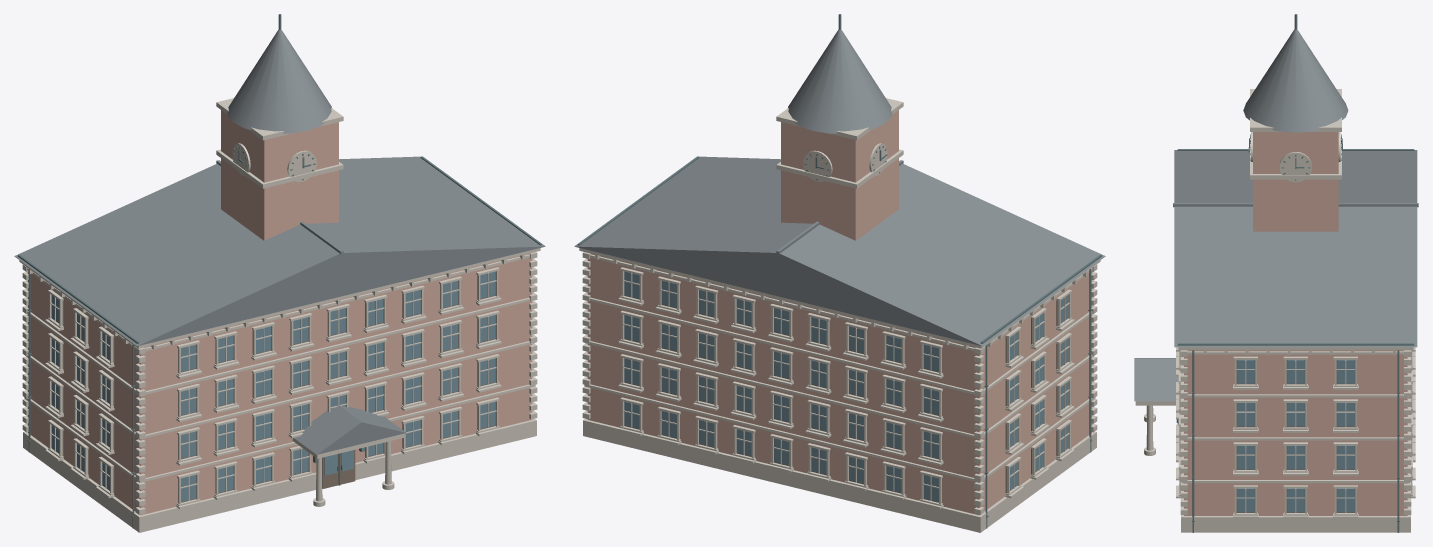
The model's file is admin.glb.
3 renders of one model, left to right at view 1: azimuth 30°, elevation 25°; view 2: azimuth 150°, elevation 25°; view 3: azimuth 270°, elevation 25°, orthographic.
Parts seen in each view (by area): view 1: admin-roof, admin-brick, admin-stone, admin-glass, admin-wood, admin-metal; view 2: admin-roof, admin-brick, admin-stone, admin-glass, admin-wood, admin-metal; view 3: admin-roof, admin-brick, admin-stone, admin-glass, admin-metal, admin-wood.
Boxes of the visible parts, x1=… form: admin-roof: x1=14, y1=29, x2=545, y2=454; admin-brick: x1=27, y1=110, x2=532, y2=515; admin-stone: x1=19, y1=98, x2=540, y2=532; admin-glass: x1=51, y1=271, x2=495, y2=501; admin-wood: x1=52, y1=275, x2=495, y2=502; admin-metal: x1=18, y1=14, x2=541, y2=528; admin-roof: x1=574, y1=29, x2=1105, y2=346; admin-brick: x1=587, y1=110, x2=1092, y2=515; admin-stone: x1=579, y1=98, x2=1100, y2=532; admin-glass: x1=624, y1=271, x2=1068, y2=501; admin-wood: x1=624, y1=275, x2=1067, y2=502; admin-metal: x1=578, y1=14, x2=1101, y2=528; admin-roof: x1=1134, y1=29, x2=1418, y2=401; admin-brick: x1=1184, y1=132, x2=1407, y2=515; admin-stone: x1=1135, y1=89, x2=1415, y2=532; admin-glass: x1=1178, y1=360, x2=1354, y2=512; admin-metal: x1=1176, y1=14, x2=1414, y2=532; admin-wood: x1=1182, y1=356, x2=1409, y2=512.
Size of the model in its own units: 35.5 by 35.45 by 21.65.
